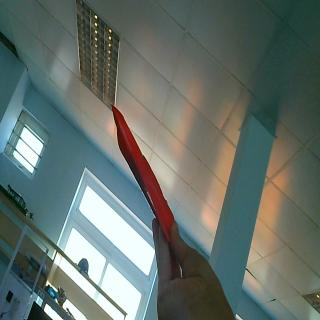Jet: (111, 102, 172, 242)
